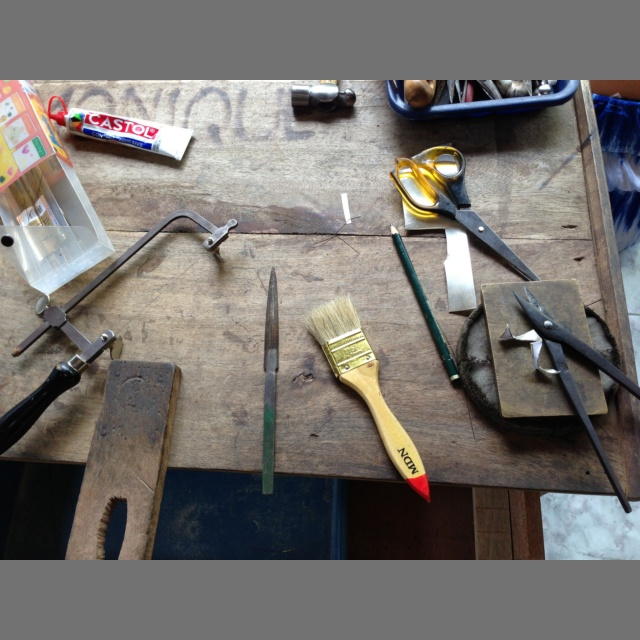scissor: (388, 145, 542, 281)
